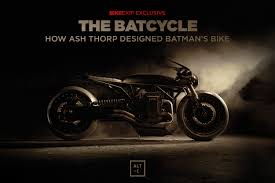motorcycle: (40, 58, 235, 141)
